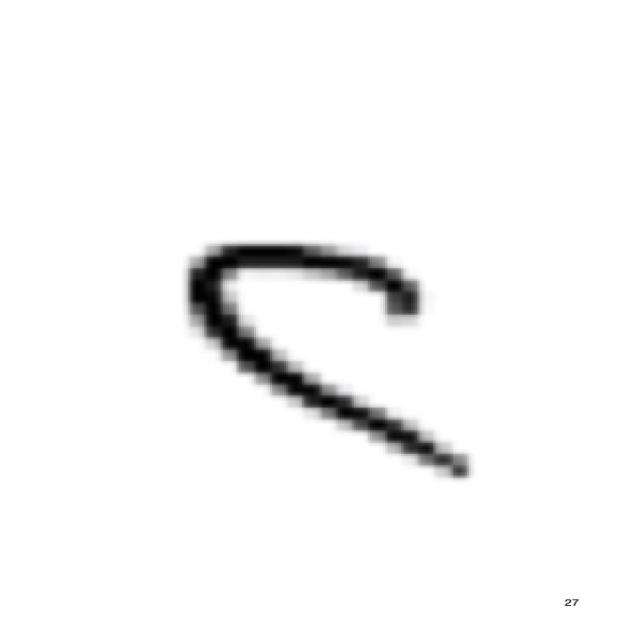2 -two-: (164, 225, 495, 486)
